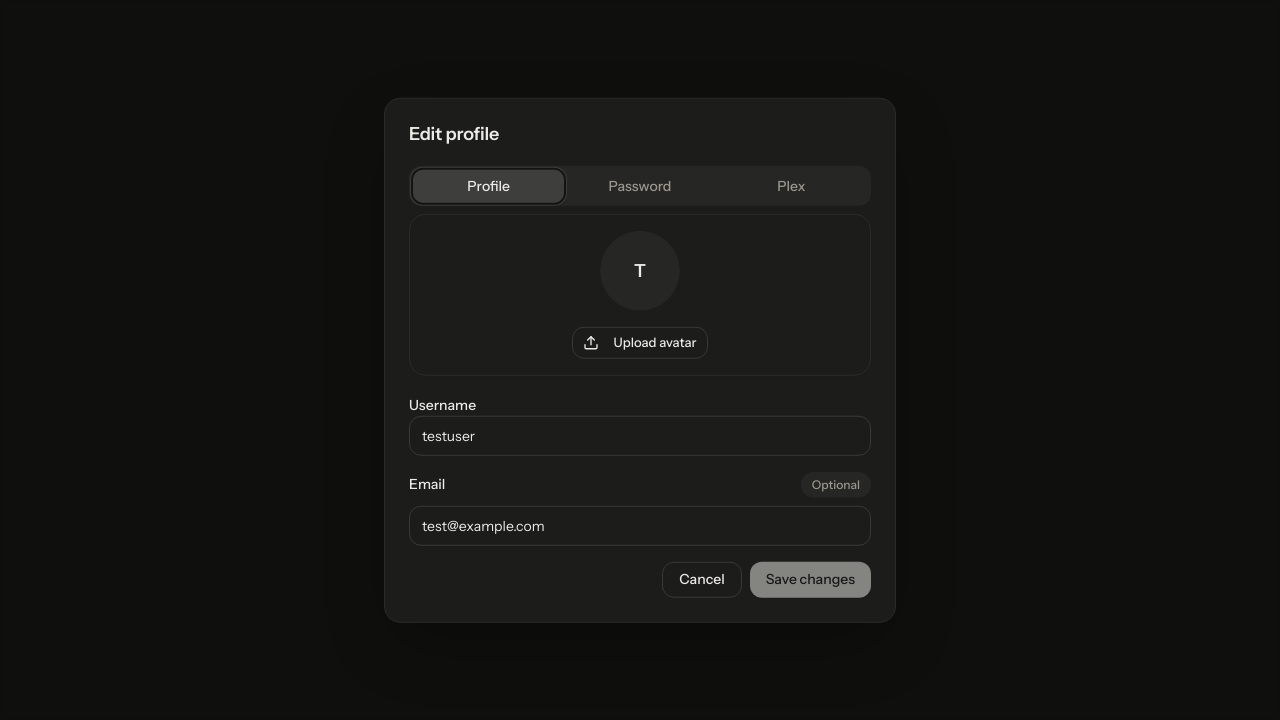
EditProfileModal › changing the password › requires a new password
Expected: the heading "Edit profile" is shown, [409,123,499,145]
Click the tab "Password". click: (640, 186)
box: [564,169,716,203]
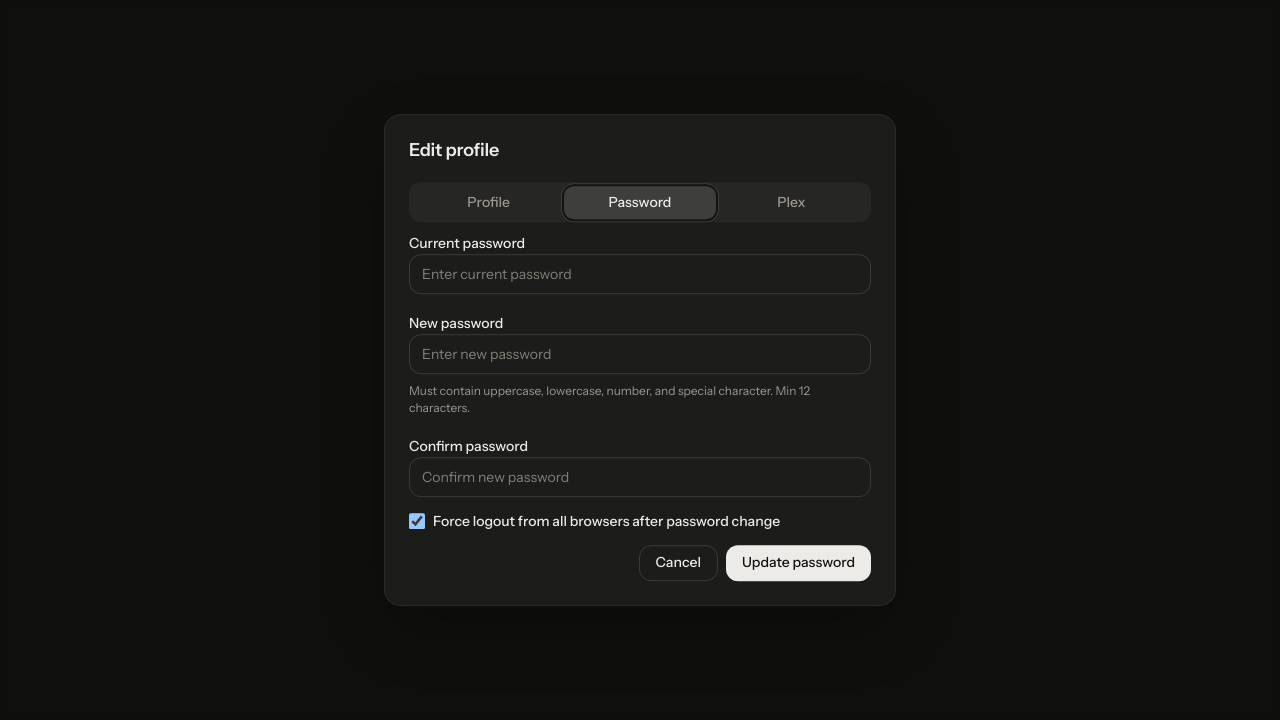
Type "old-secret" into the password field labelled "Current password". click: (640, 274)
box: [409,254,871,294]
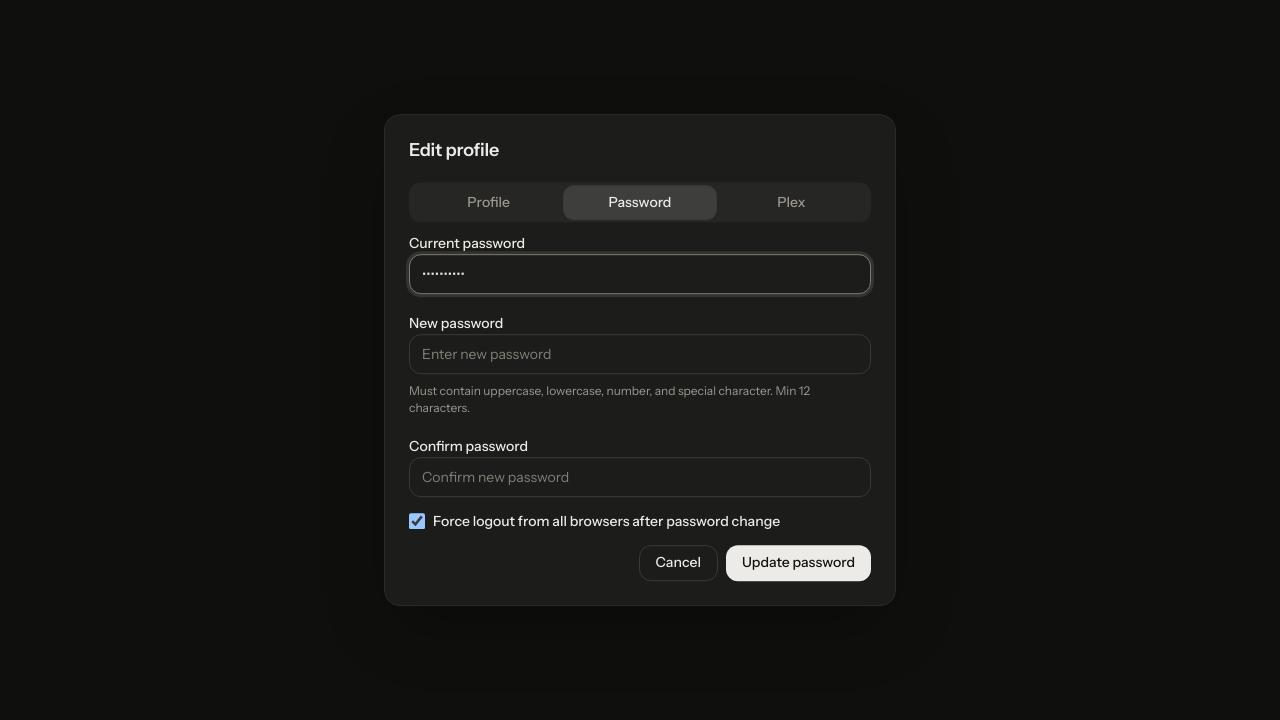
Click the button "Update password". click: (798, 563)
box: [726,545,871,581]
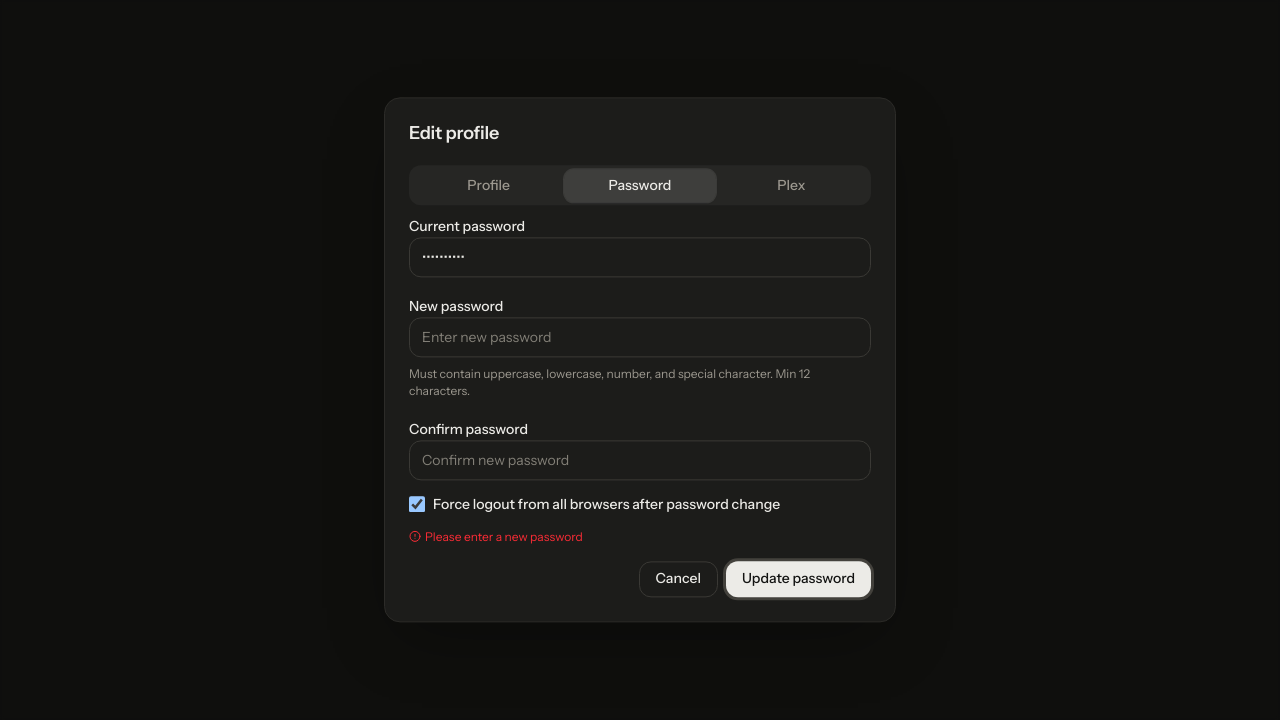
Expected: the text "Please enter a new password" is shown, [409,529,583,544]
